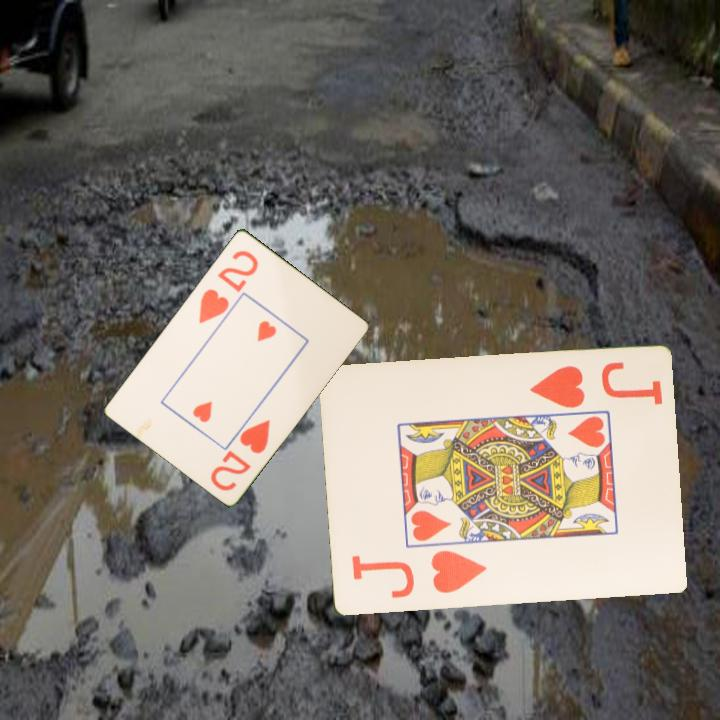2h: (195, 246, 261, 326), (207, 416, 273, 494)
Jh: (347, 547, 490, 602), (525, 362, 587, 412)
